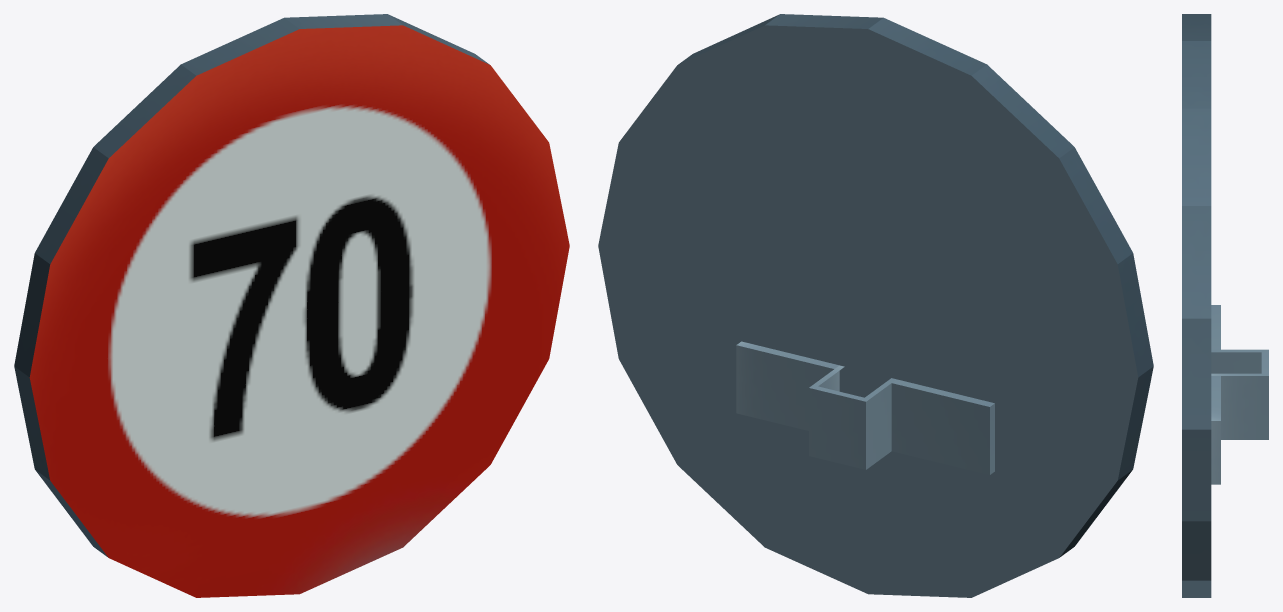
The model's file is Sign28Austrian.fbx.
3 renders of one model, left to right at view 1: azimuth 30°, elevation 25°; view 2: azimuth 150°, elevation 25°; view 3: azimuth 270°, elevation 25°, orthographic. The views are drawn at different scales.
Visible parts, largest first — view 1: Sign28Austrian; view 2: Sign28Austrian; view 3: Sign28Austrian.
Boxes of the visible parts, bbox=[...] form: Sign28Austrian: bbox=[14, 14, 569, 597]; Sign28Austrian: bbox=[598, 14, 1153, 597]; Sign28Austrian: bbox=[1182, 14, 1268, 597].
Bounding box in the file's own units: 1 × 1 × 0.1489.
